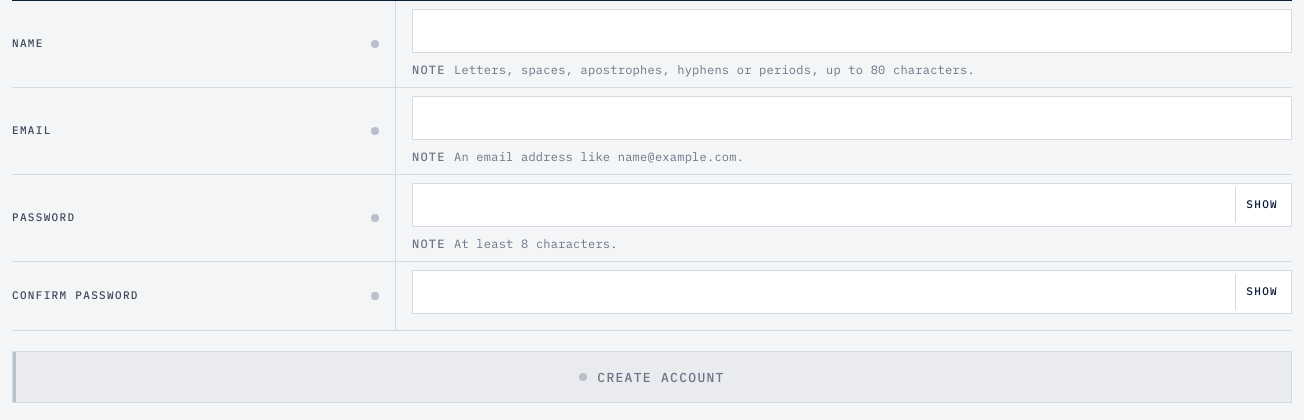
AuthForm (sign up) › explains the password rule and flags a short password and a bad email after the field is left
The image size is (1304, 420).
Expected: the text "At least 8 characters." is shown, [454,236,618,251]
Type "short" into the password field labelled "Password".
click(852, 205); type("short")  # box [412,183,1292,227]
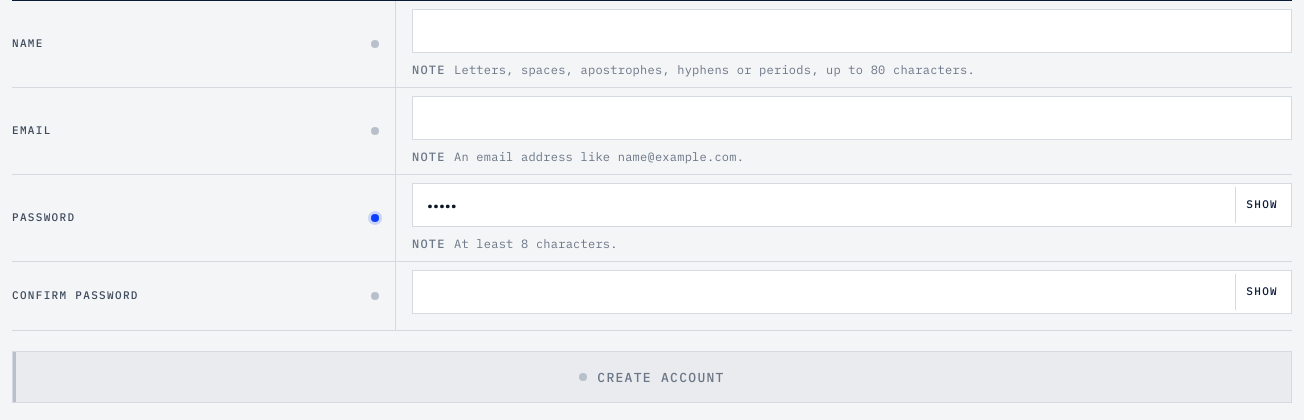
Leave the password field labelled "Password", box [412,183,1292,227]
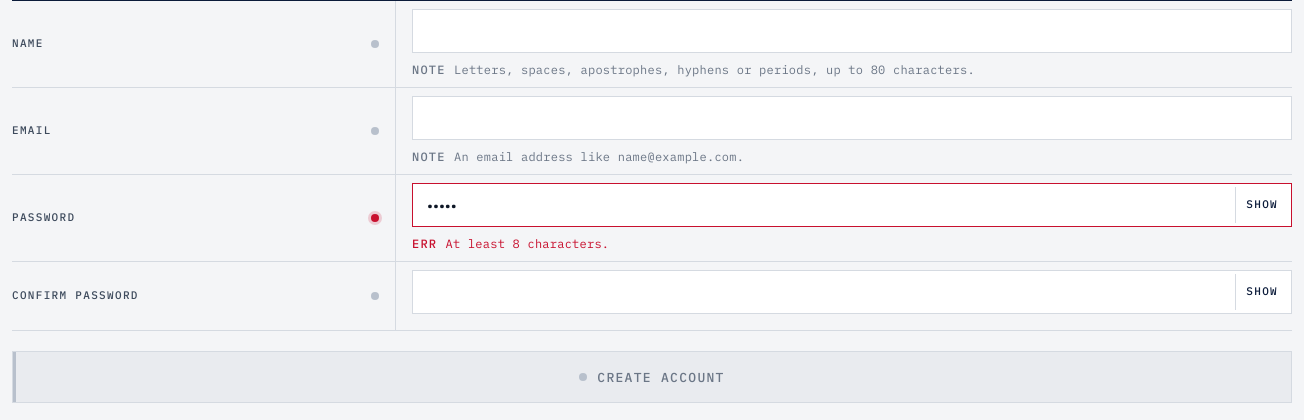
Type "not-an-email" into the field labelled "Email".
click(852, 118); type("not-an-email")  # box [412,96,1292,140]
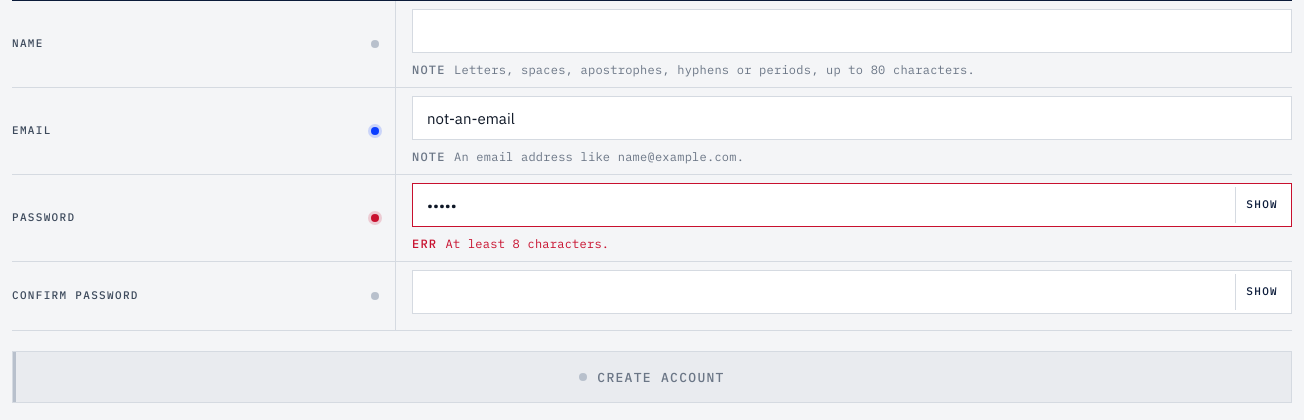
Leave the field labelled "Email", box [412,96,1292,140]
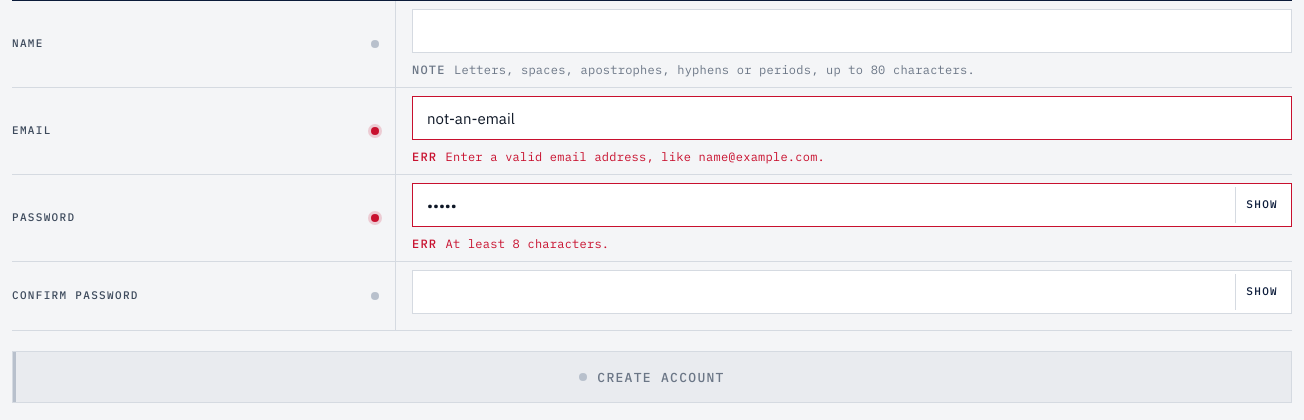
Now the text "Enter a valid email address, like name@example.com." is shown, box [446,149,825,164]
